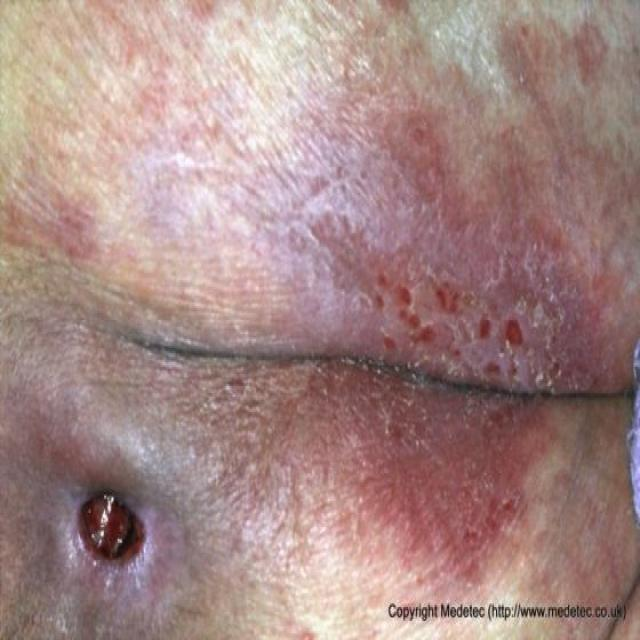stage-3: (80, 493, 144, 558)
